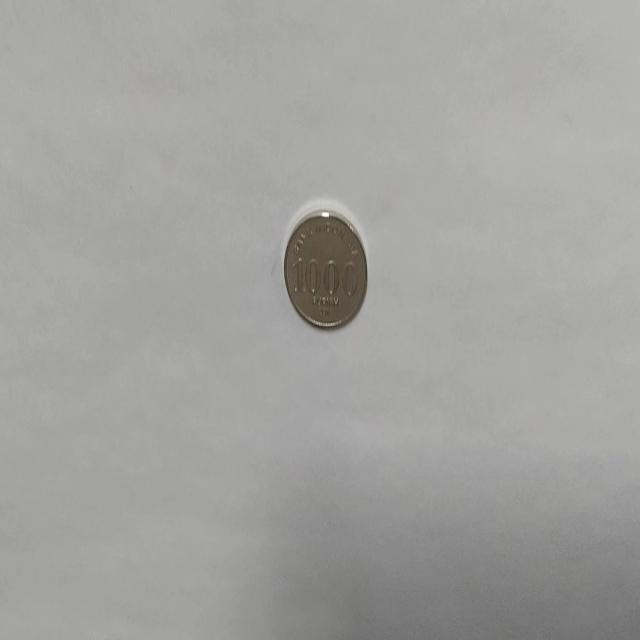seribu rupiah koin: (282, 205, 368, 330)
